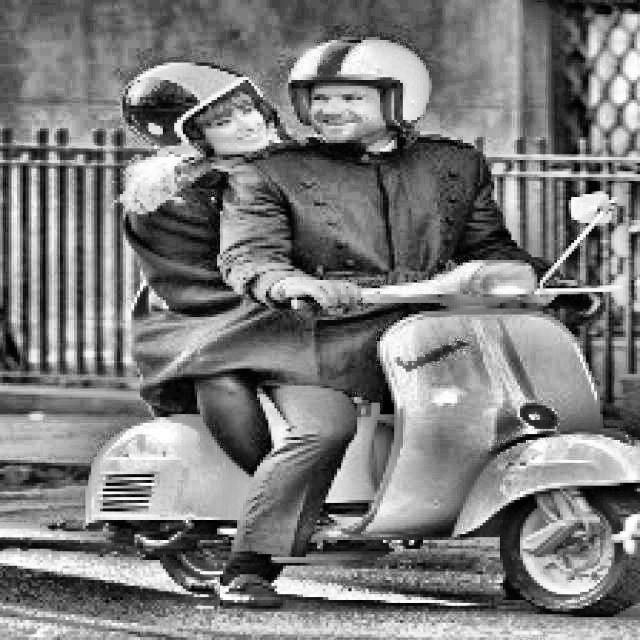motorcycle: (83, 188, 640, 610)
